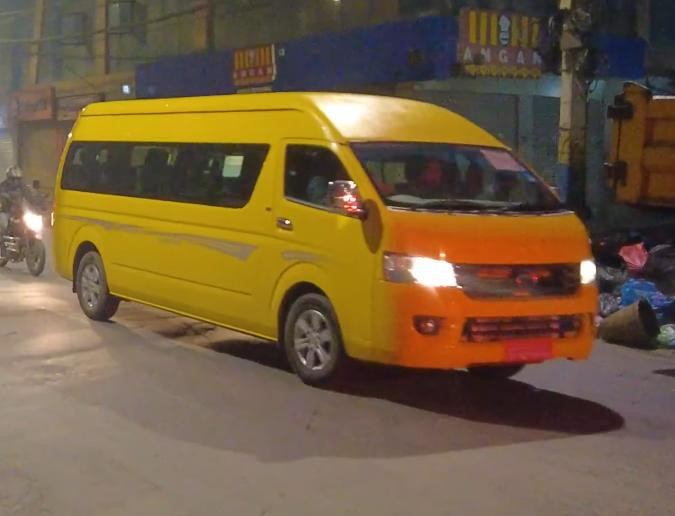school_bus: (50, 86, 601, 400)
